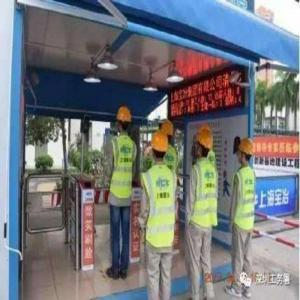yellow: (194, 125, 214, 161), (152, 131, 169, 163), (116, 107, 132, 135), (238, 138, 254, 165), (162, 120, 175, 145)
